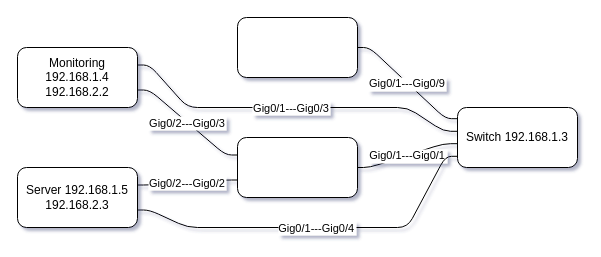
The diagram is 601 pixels wide and 257 high, and some of its shapes have lost their labels. The shapes that lost their labels are listed below. From the top down, each one's centre as x and y in pixels, then its label:
the point at 297,47: Router 192.168.1.2
the point at 297,167: ONT 192.168.1.1 192.168.2.1
